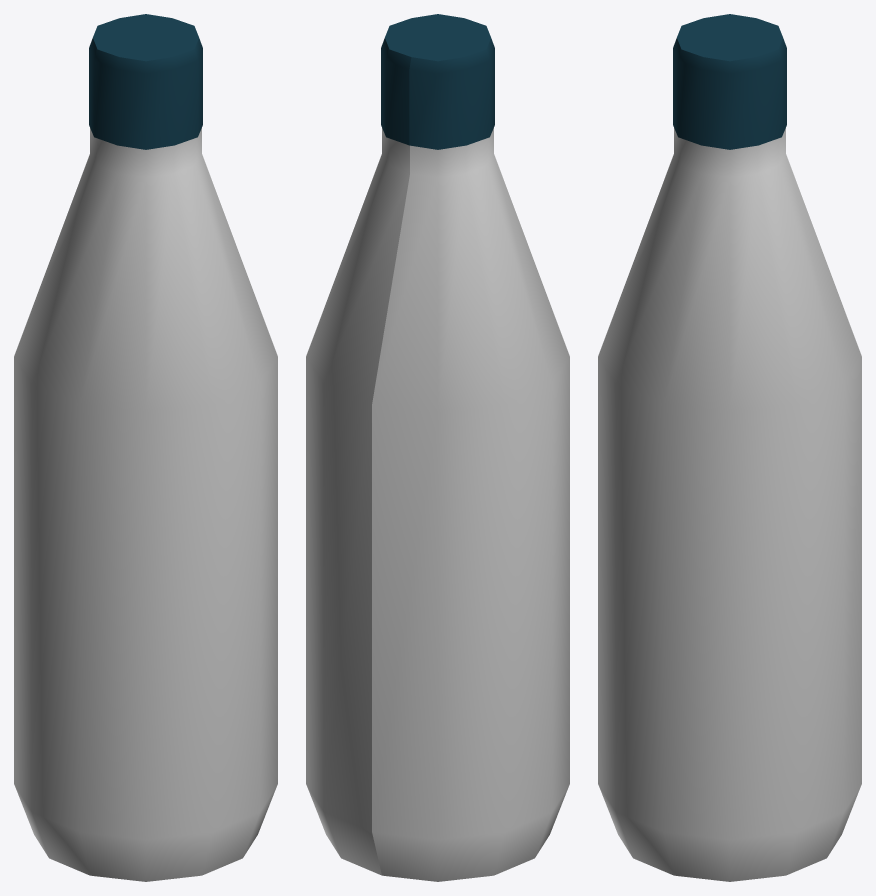
The model's file is pump-juice.glb.
The picture shows the model from 3 angles, left to right: view 1: azimuth 30°, elevation 25°; view 2: azimuth 150°, elevation 25°; view 3: azimuth 270°, elevation 25°; orthographic projection.
Parts seen in each view (by area): view 1: One-piece heel, body, shoulder and neck, Tamper-overlap ribbed screw cap; view 2: One-piece heel, body, shoulder and neck, Tamper-overlap ribbed screw cap; view 3: One-piece heel, body, shoulder and neck, Tamper-overlap ribbed screw cap.
Part boxes in pixels (<box>): One-piece heel, body, shoulder and neck: <box>14,128,277,881</box>; Tamper-overlap ribbed screw cap: <box>89,14,202,149</box>; One-piece heel, body, shoulder and neck: <box>306,128,569,881</box>; Tamper-overlap ribbed screw cap: <box>381,14,494,149</box>; One-piece heel, body, shoulder and neck: <box>598,128,861,881</box>; Tamper-overlap ribbed screw cap: <box>673,14,786,149</box>.
Bounding box in the file's own units: 0.066 × 0.22 × 0.066.
